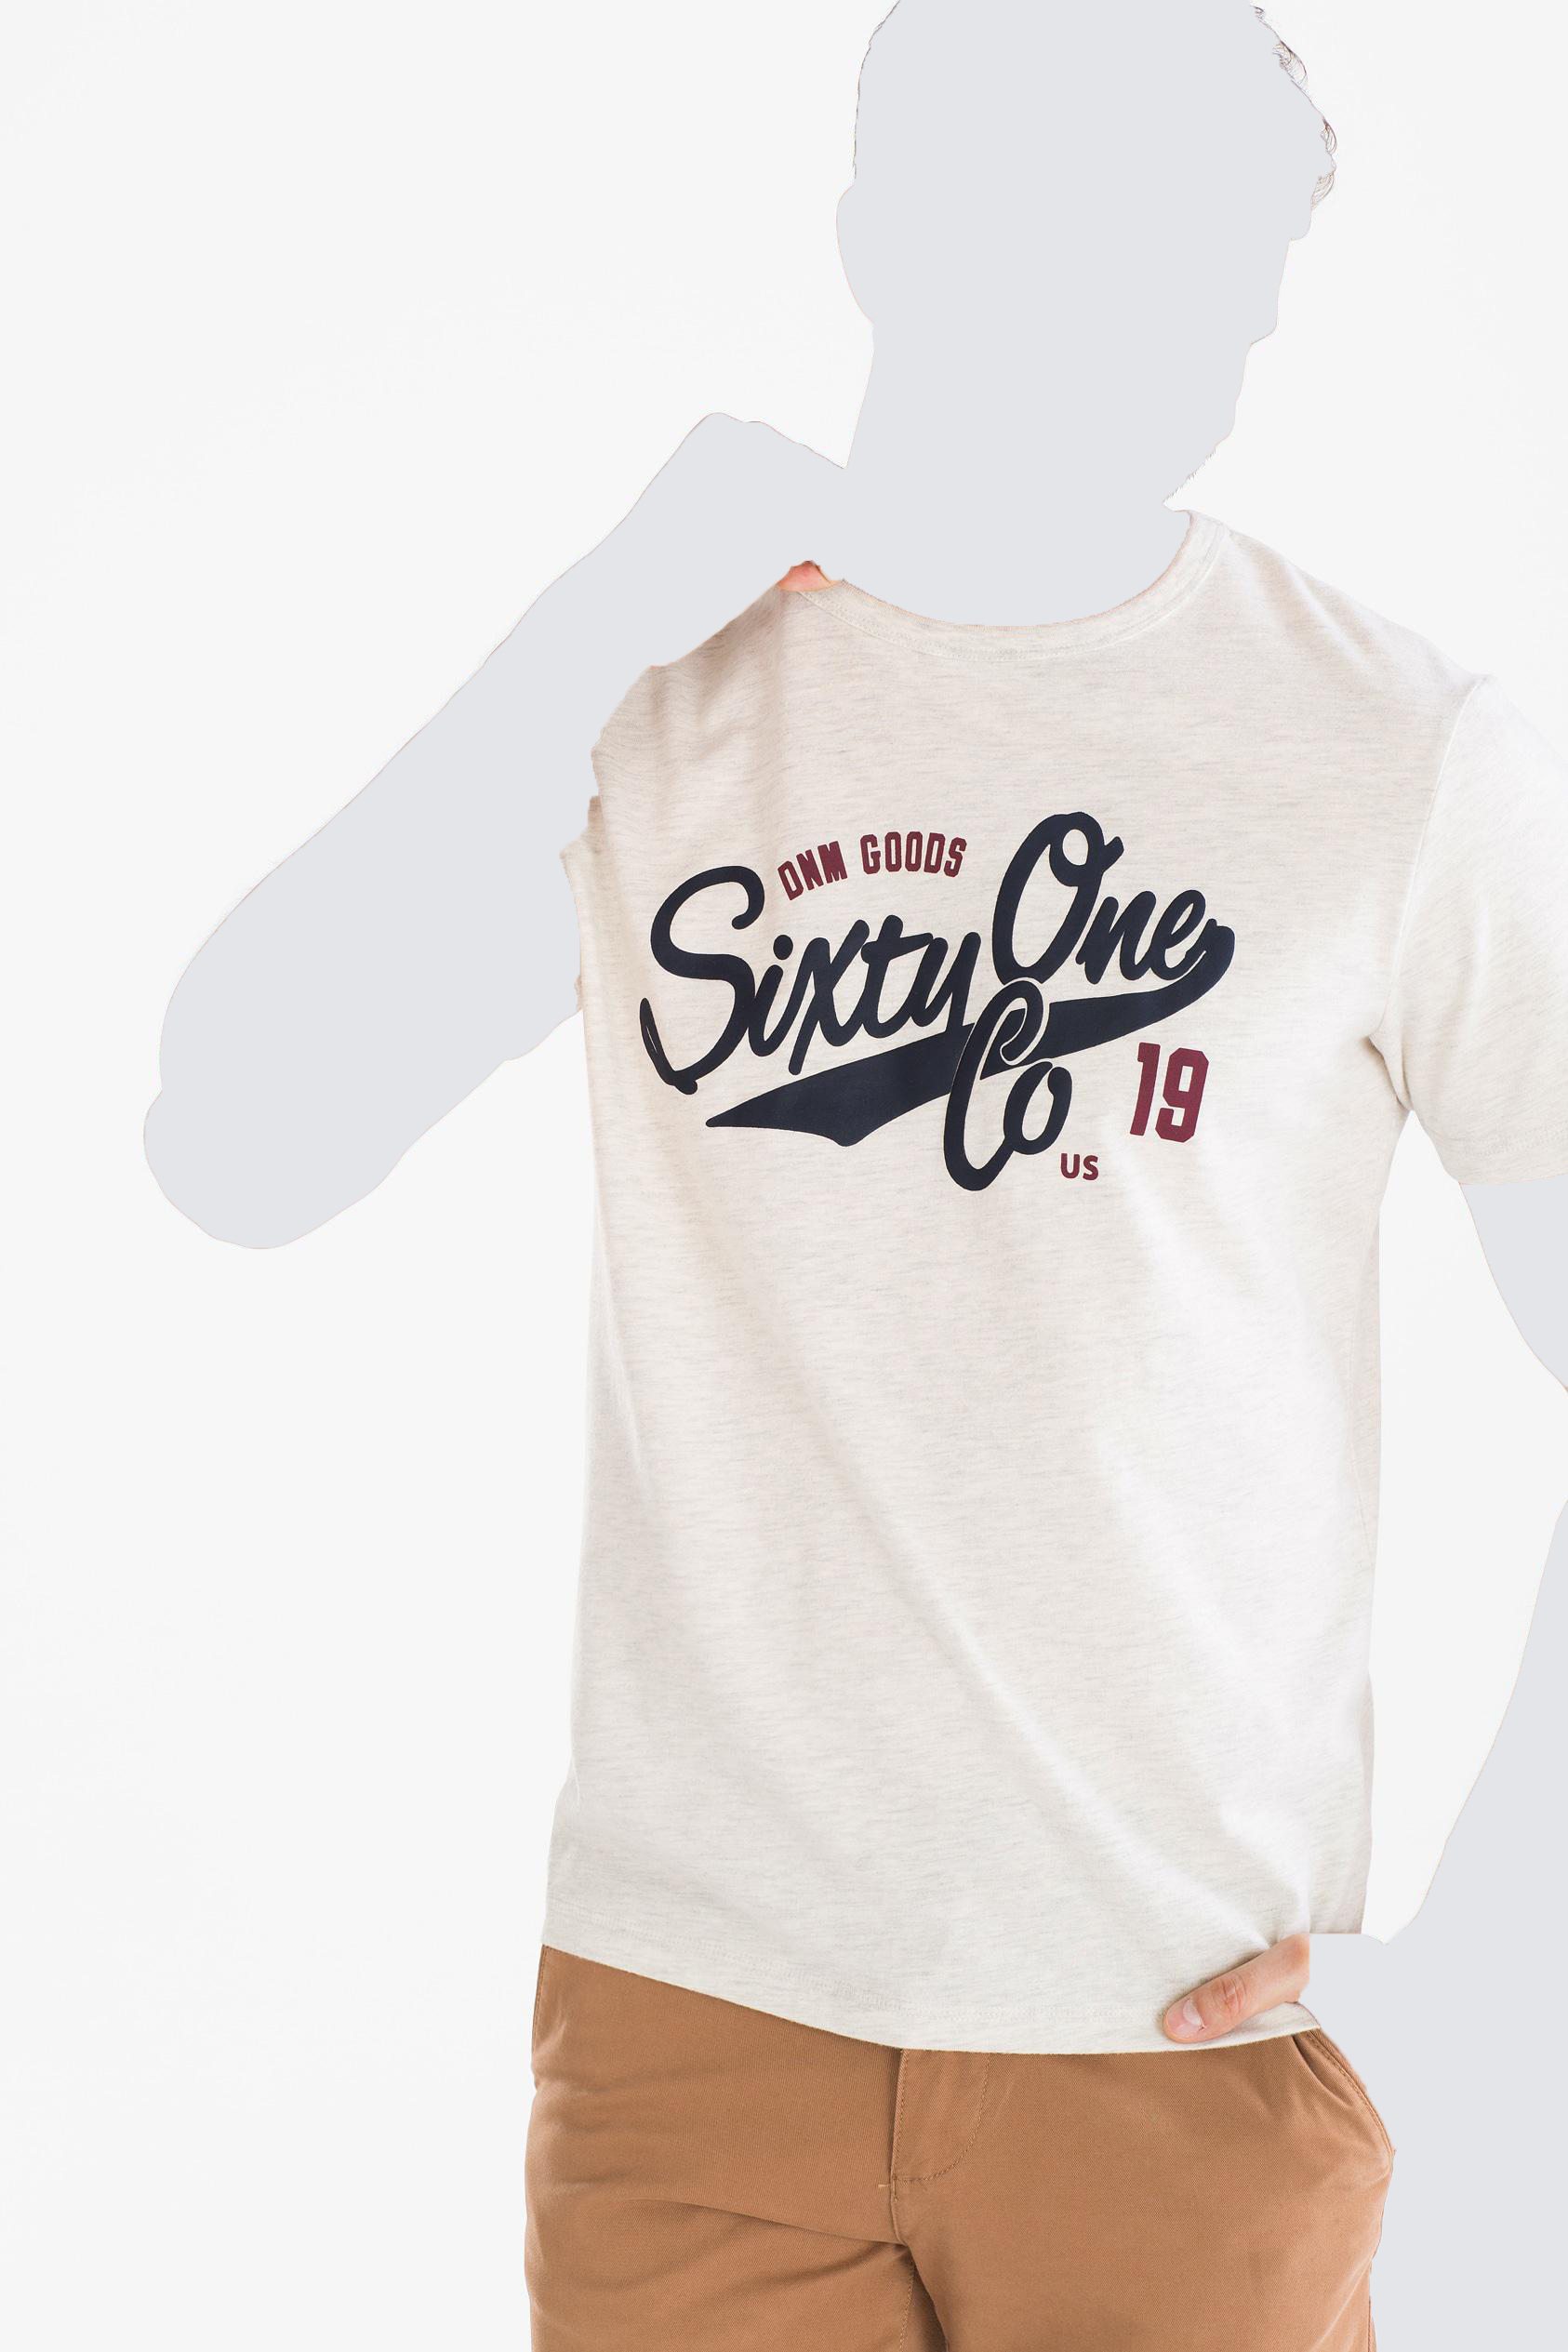teeshirt: (574, 495, 1568, 2054)
